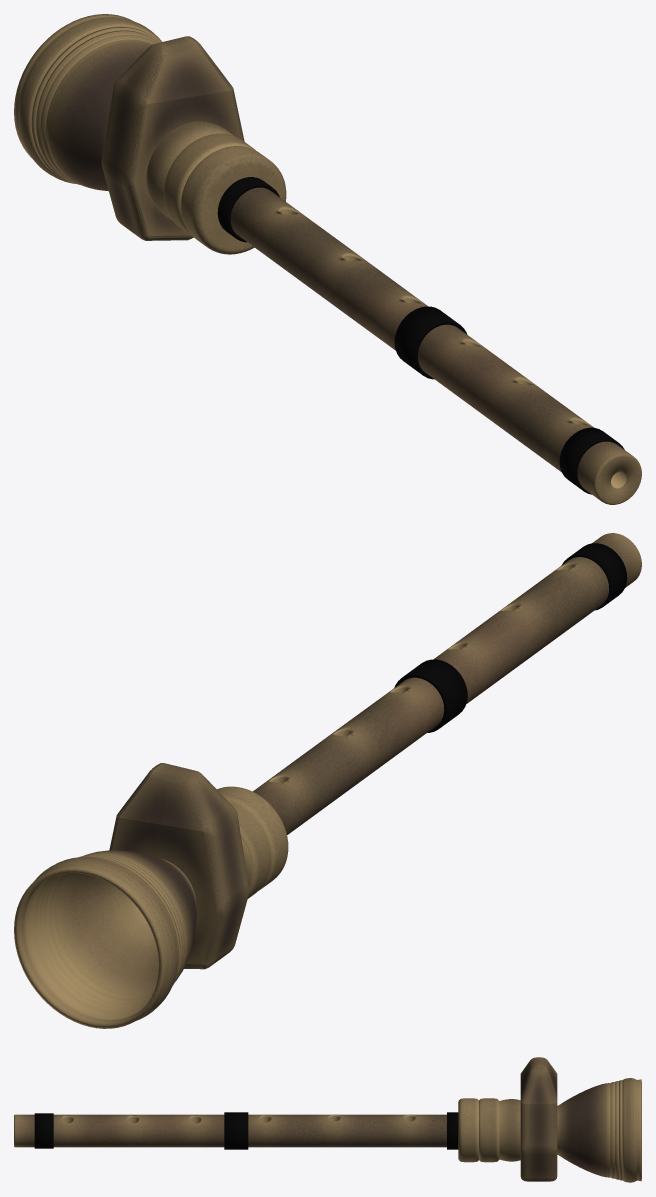
Rendered from Kota_kol.glb.
3 views of the same model, one above another, from view 1: azimuth 30°, elevation 25°; view 2: azimuth 150°, elevation 25°; view 3: azimuth 270°, elevation 25° (orthographic). The views are drawn at different scales.
Visible parts, largest first — view 1: Cylinder, Circle, Cube, Circle.002, Circle.001, Circle.003; view 2: Cylinder, Circle, Cube, Circle.002, Circle.001; view 3: Circle, Cylinder, Cube, Circle.002, Circle.001, Circle.003.
Part boxes in pixels (x1,y1,x2,y2): Cylinder: [14, 14, 286, 254]; Circle: [230, 187, 641, 504]; Cube: [101, 36, 244, 240]; Circle.002: [394, 306, 467, 379]; Circle.001: [559, 427, 624, 494]; Circle.003: [217, 177, 279, 242]; Cylinder: [14, 786, 288, 1028]; Circle: [253, 533, 641, 834]; Cube: [109, 763, 249, 969]; Circle.002: [394, 659, 467, 732]; Circle.001: [561, 543, 627, 610]; Circle: [14, 1114, 446, 1147]; Cylinder: [458, 1078, 641, 1182]; Cube: [520, 1057, 557, 1181]; Circle.002: [224, 1112, 248, 1149]; Circle.001: [34, 1113, 53, 1148]; Circle.003: [447, 1112, 458, 1149].
Size of the model in its own units: 0.0341 by 0.0418 by 0.2048.
4 materials, 4 textured.
